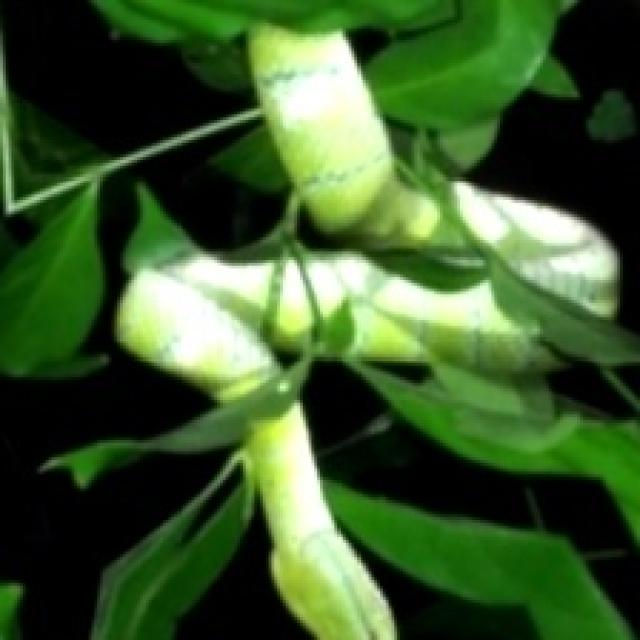north ph temple pitviper: (49, 0, 637, 637), (300, 357, 391, 469)
